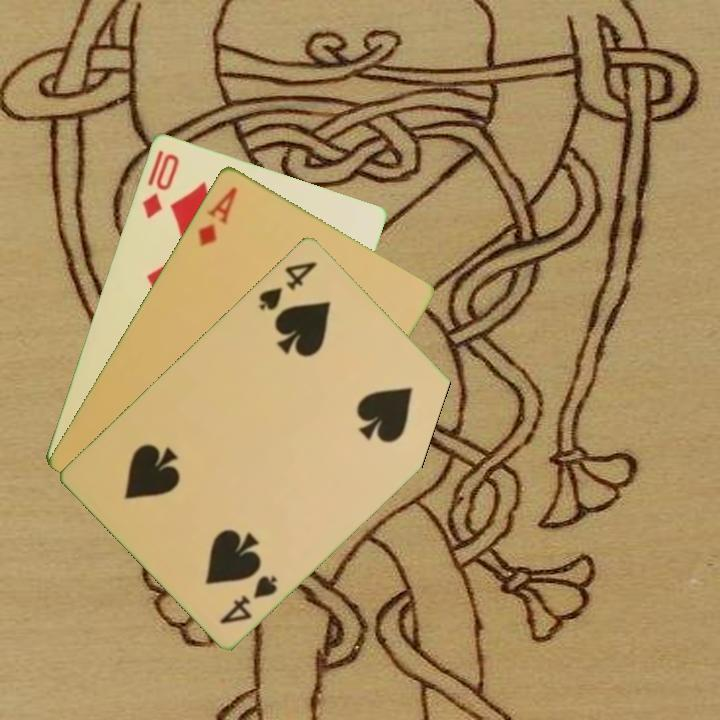10d: (138, 149, 182, 221)
4s: (255, 257, 321, 313), (216, 571, 281, 627)
Ad: (194, 182, 240, 249)
